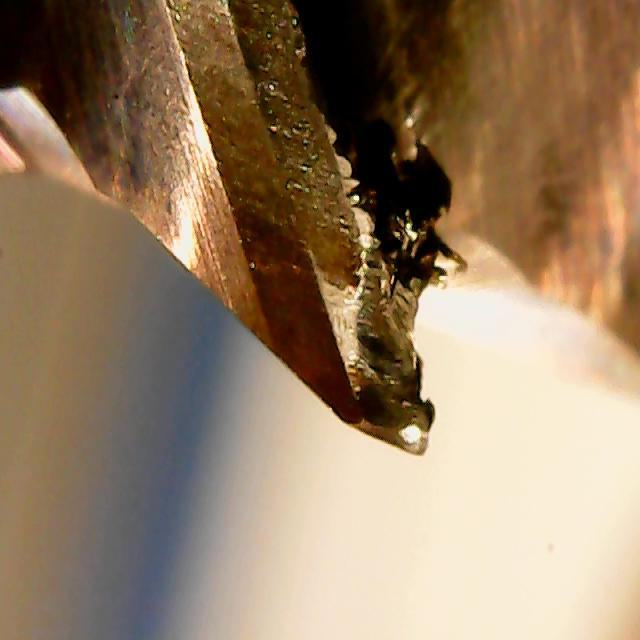Tool-wear-class-3: (267, 228, 458, 462)
